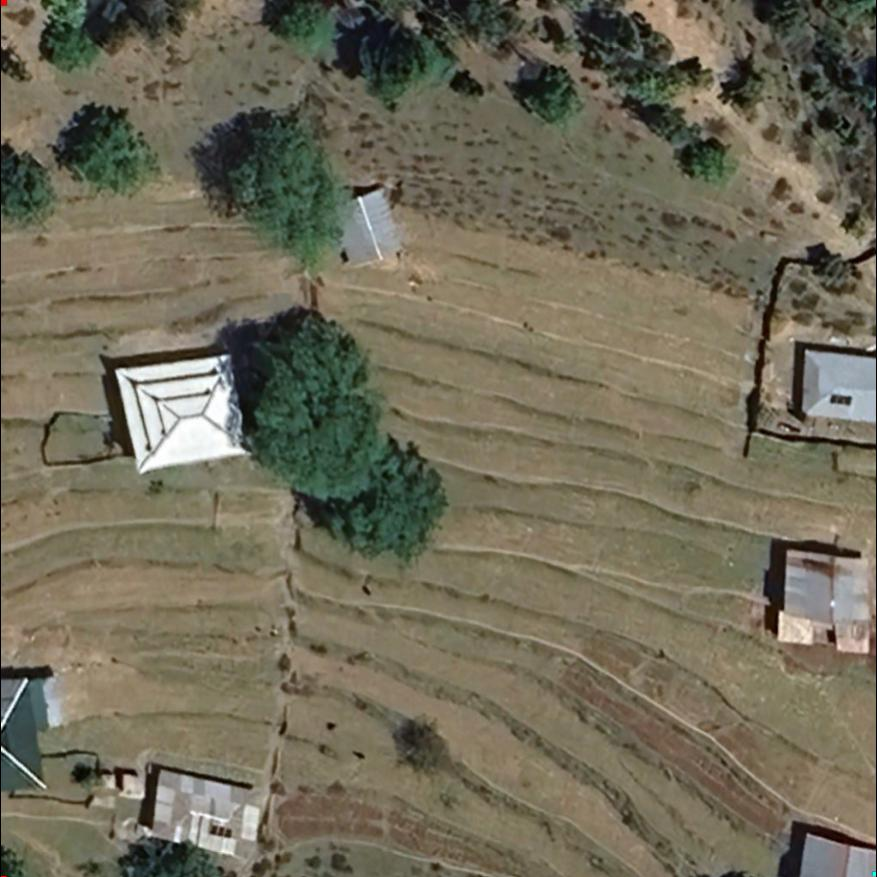Solarpanel: (207, 821, 236, 841), (827, 390, 856, 408)
